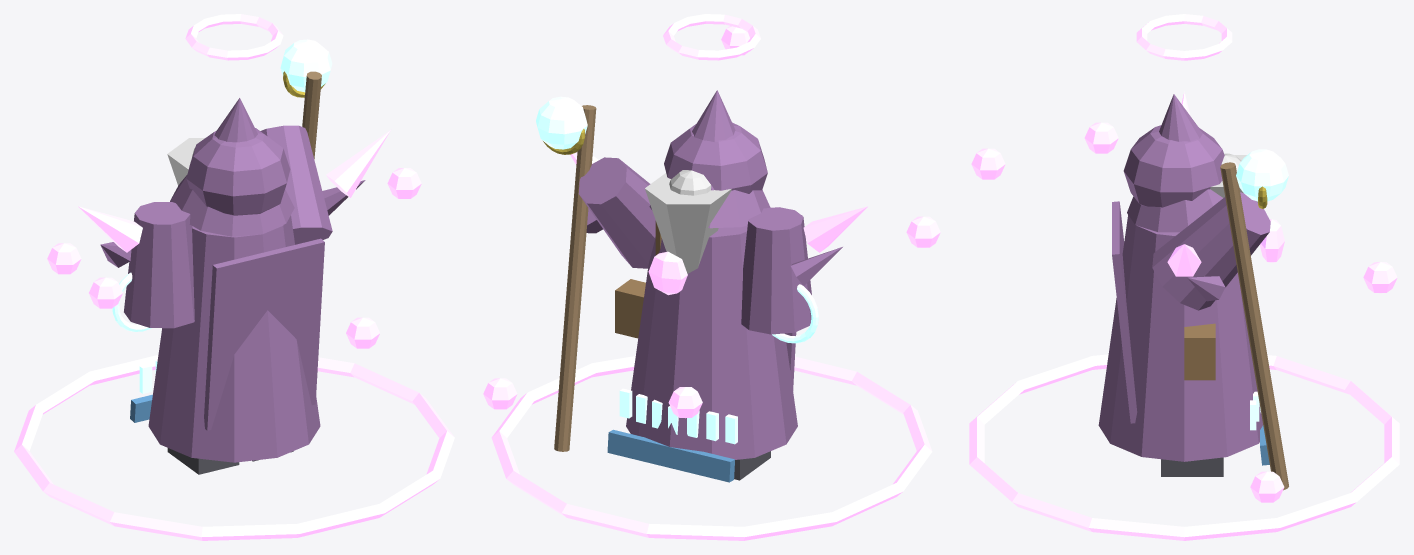
File: evolved_wizard.glb
3 renders of one model, left to right at view 1: azimuth 30°, elevation 25°; view 2: azimuth 150°, elevation 25°; view 3: azimuth 270°, elevation 25°, orthographic.
Parts seen in each view (by area): view 1: evolved_wizard; view 2: evolved_wizard; view 3: evolved_wizard.
Part boxes in pixels (x1,y1,x2,y2): evolved_wizard: (14,14,454,540); evolved_wizard: (483,14,940,540); evolved_wizard: (969,14,1399,540).
Size of the model in its own units: 3.11 by 3.28 by 3.03.
